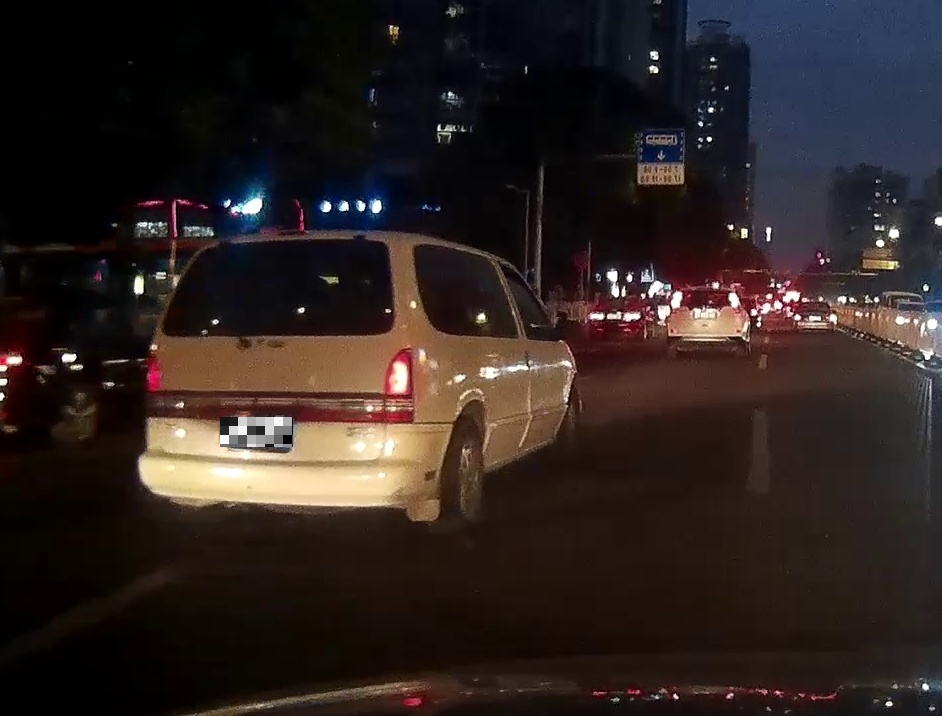L_light: (145, 354, 161, 391), (670, 292, 682, 309)
R_light: (384, 350, 410, 396), (728, 293, 740, 308)
T_light: (269, 241, 303, 249), (698, 291, 714, 295)
night-no: (666, 287, 743, 359)
night-right: (137, 231, 416, 538)
plate_1: (220, 417, 293, 447)
